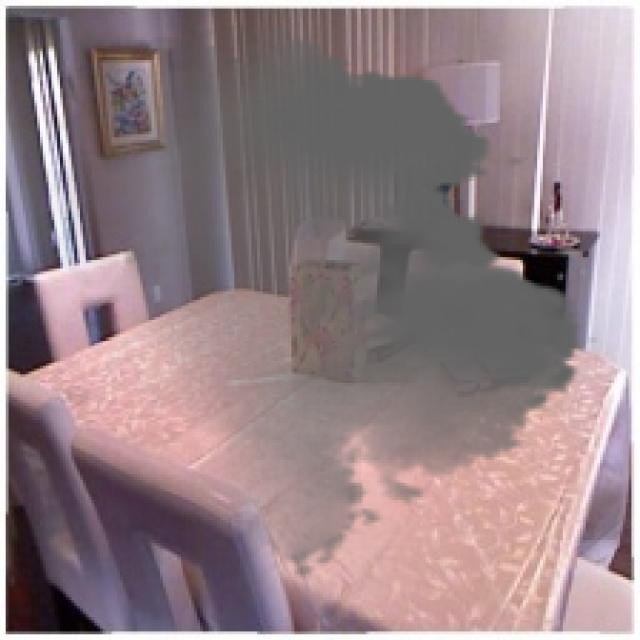smoke: (37, 26, 600, 580)
